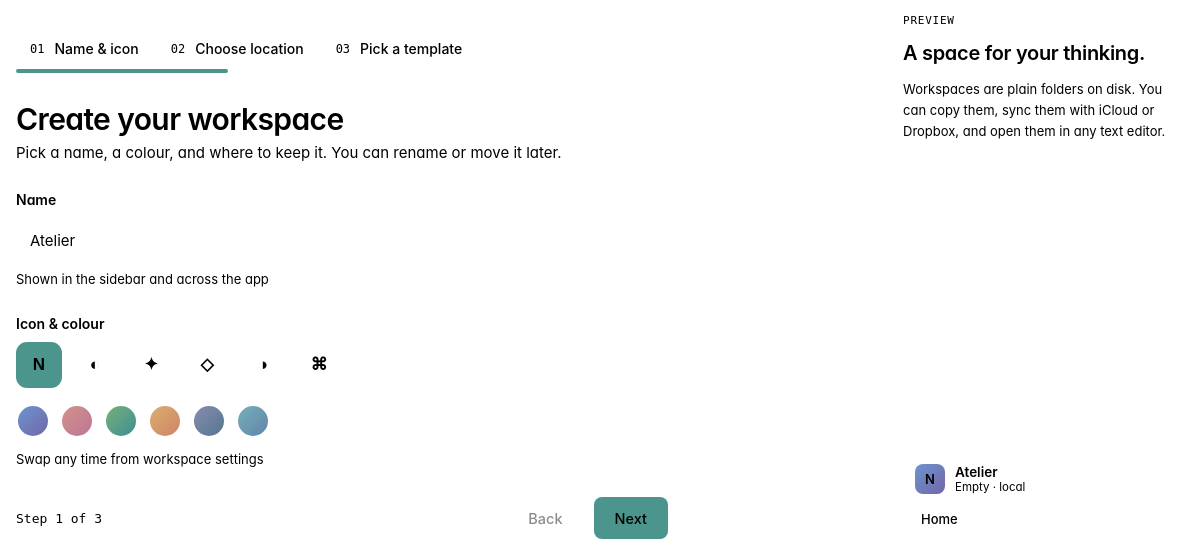
Test case: onboarding workspace storage options › advances with Next and disables Back on the first step
Expected: the button with class "footer-btn-back" is disabled, [507,497,584,539]
Click the button with class "footer-btn-next": (631,518) [594,497,668,539]
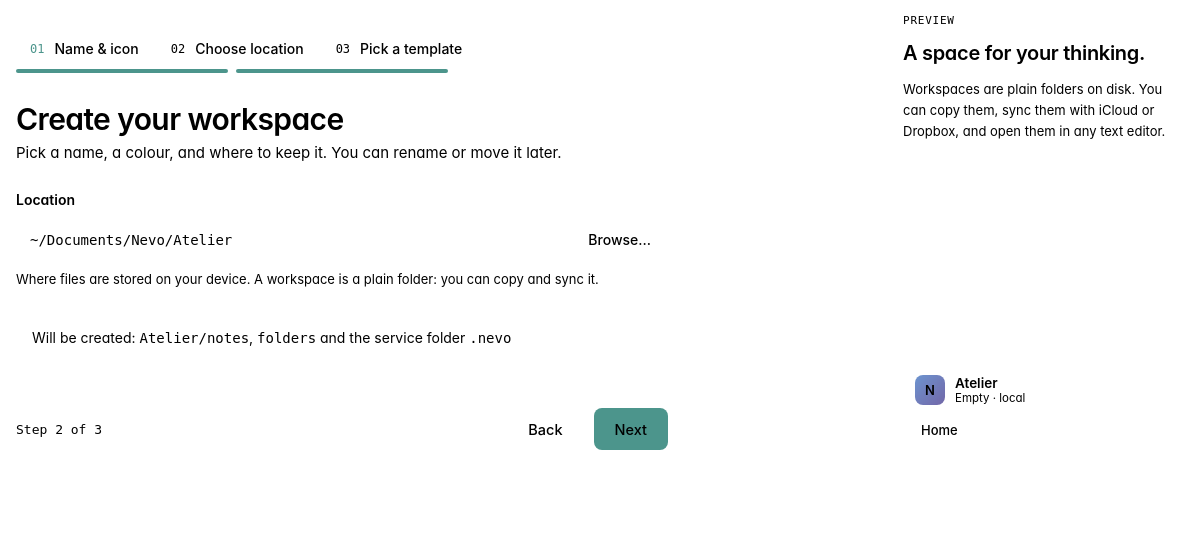
Result: the text with class "cw-foot-count" reads "Step 2 of 3" at [16,422,102,436]
Result: the button with class "footer-btn-back" is enabled at [507,408,584,450]
